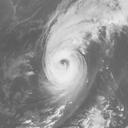cyclone: (43, 35, 87, 86)
